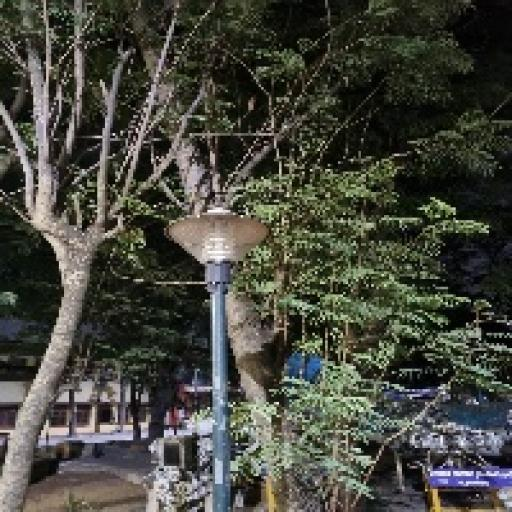Not Working: (150, 199, 287, 279)
